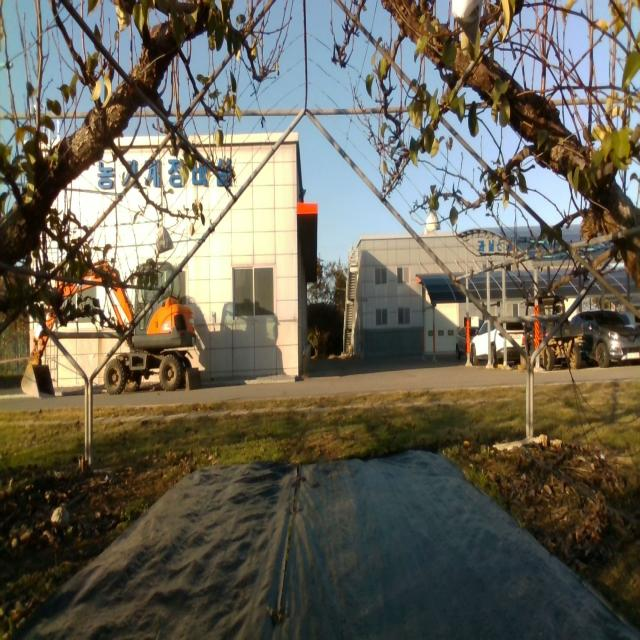pearbags: (452, 0, 481, 45), (156, 224, 174, 254), (424, 209, 441, 236)
